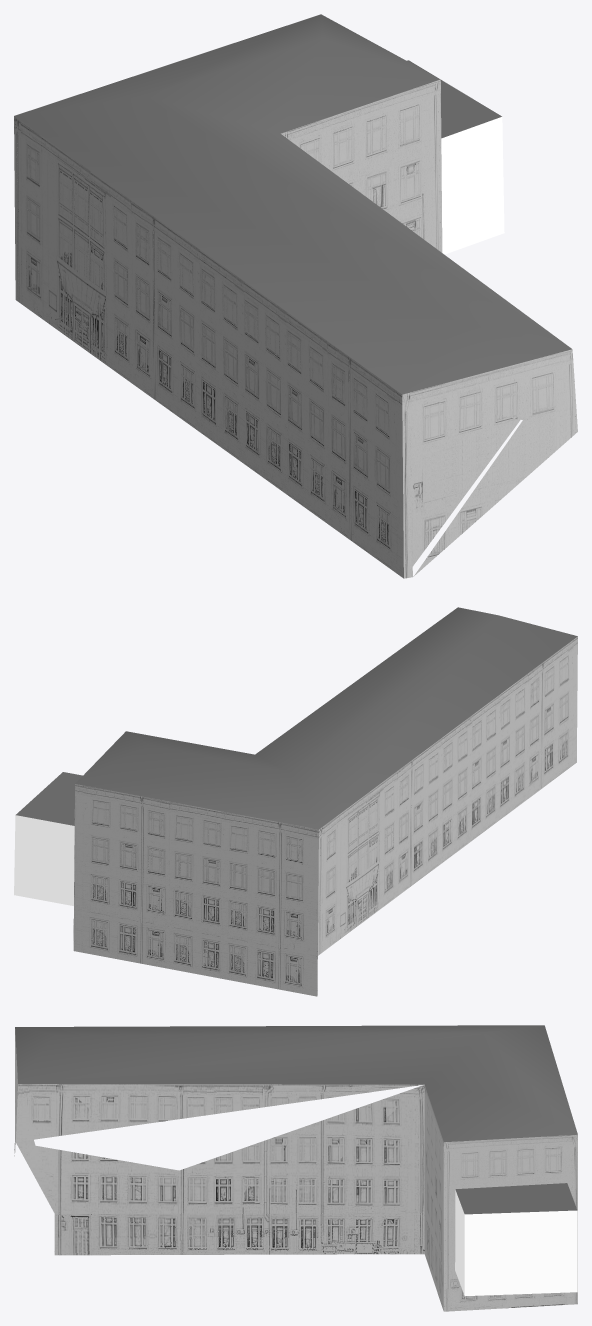
The model's file is Toepler-Bau.gltf.
3 renders of one model, top to bottom at view 1: azimuth 30°, elevation 25°; view 2: azimuth 150°, elevation 25°; view 3: azimuth 270°, elevation 25°, orthographic. The views are drawn at different scales.
Parts seen in each view (by area): view 1: Dach.1; view 2: Dach.1; view 3: Dach.1.
Part boxes in pixels (box(x1,y1,x2,y2)): Dach.1: box(14, 14, 577, 578); Dach.1: box(14, 607, 577, 996); Dach.1: box(14, 1025, 577, 1311).
Bounding box in the file's own units: 38.09 × 23.23 × 62.14.
Materials: 11 (9 with a texture image).
